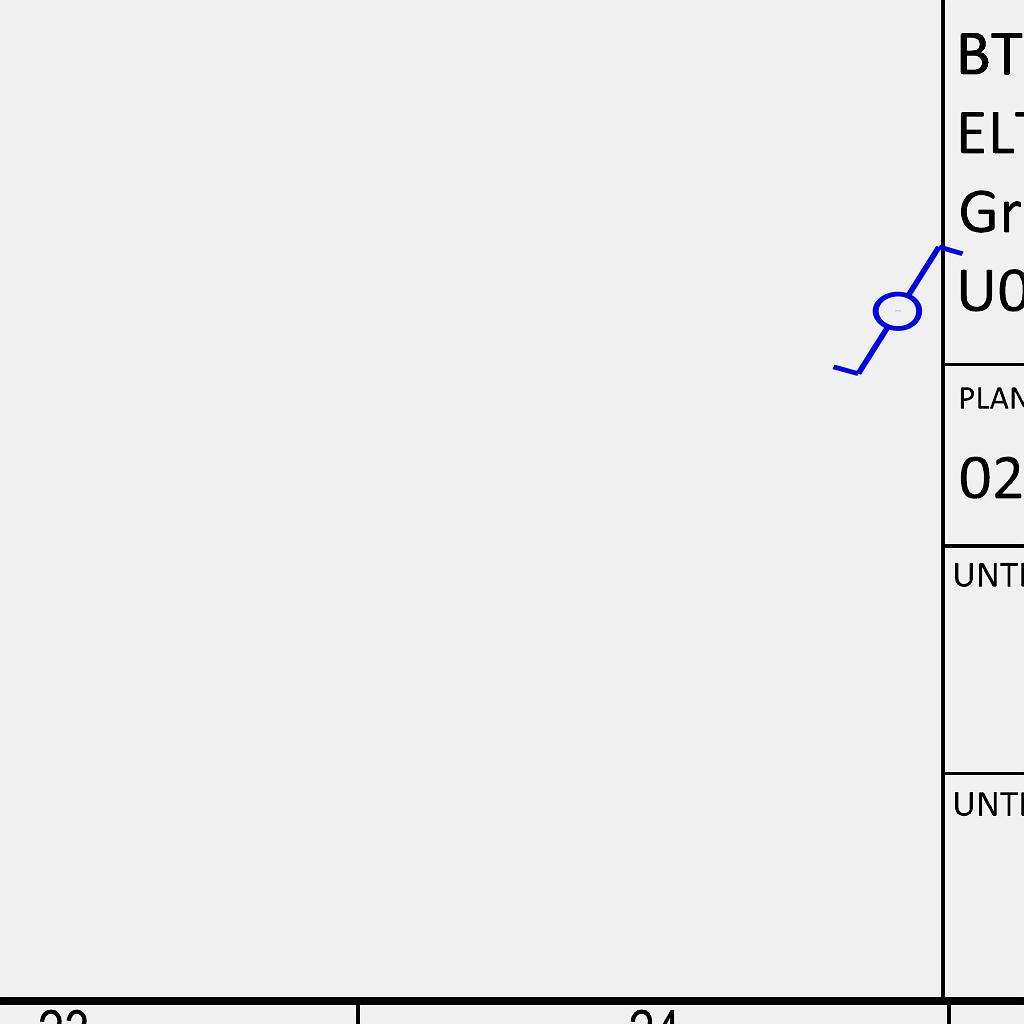Wechselschalter: (811, 237, 968, 381)
